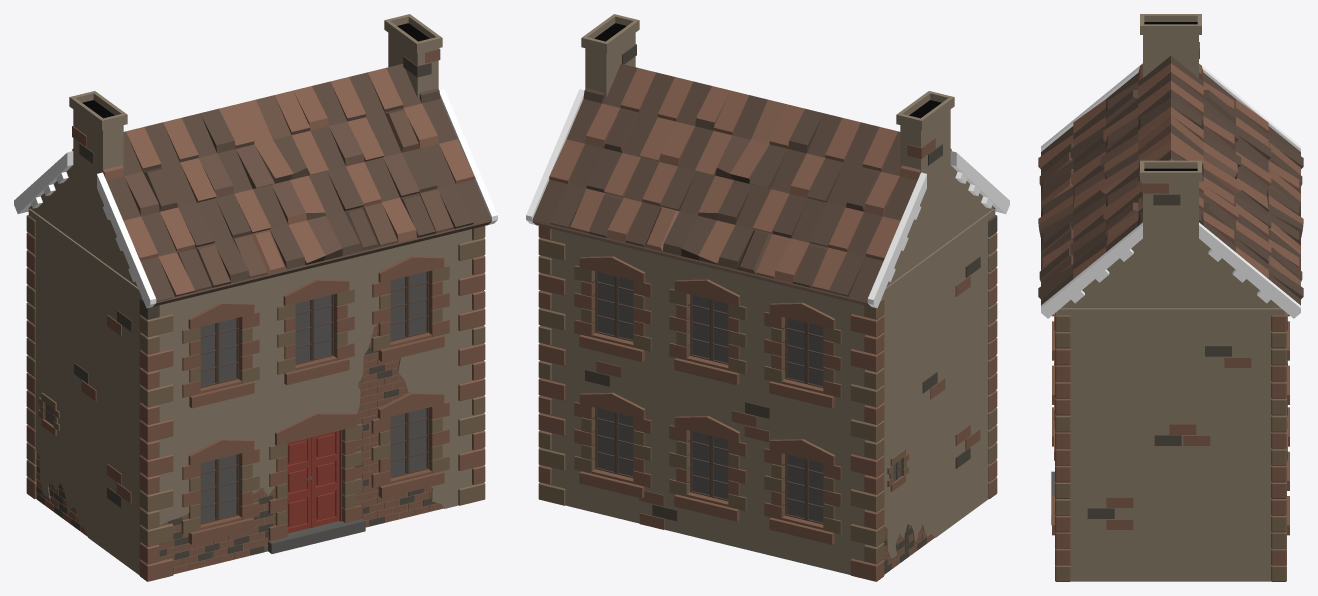
Rendered from world_war_ii_house_1_-_low_poly.glb.
The picture shows the model from 3 angles, left to right: view 1: azimuth 30°, elevation 25°; view 2: azimuth 150°, elevation 25°; view 3: azimuth 270°, elevation 25°; orthographic projection. The views are drawn at different scales.
Visible parts, largest first — view 1: House, Roof, Windows, Bricks, Door; view 2: House, Roof, Windows, Bricks; view 3: House, Roof, Bricks, Windows.
Part boxes in pixels (x1,y1,x2,y2): House: [28, 14, 483, 575]; Roof: [14, 64, 497, 308]; Windows: [38, 256, 449, 544]; Bricks: [26, 48, 485, 581]; Door: [268, 413, 362, 541]; House: [540, 14, 995, 574]; Roof: [526, 64, 1009, 308]; Windows: [574, 256, 908, 544]; Bricks: [538, 44, 997, 581]; House: [1051, 14, 1284, 581]; Roof: [1038, 56, 1303, 318]; Bricks: [1055, 42, 1286, 581]; Windows: [1052, 313, 1289, 535].
Bounding box in the file's own units: 7.25 × 8.56 × 5.02.
1 material, 1 textured.
